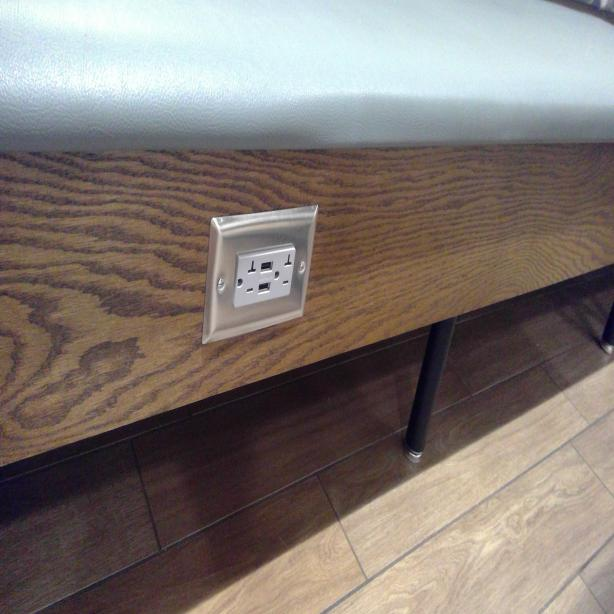typeb: (233, 253, 259, 306), (272, 250, 296, 298)
